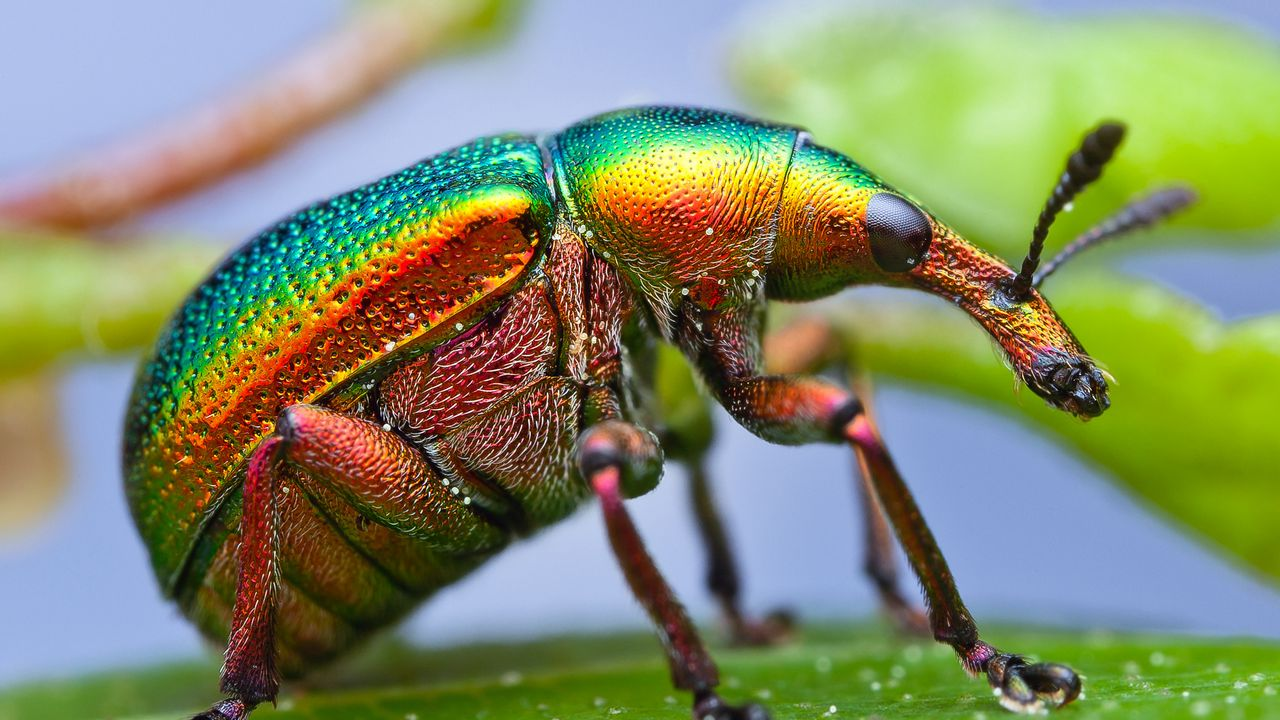dolgonosik: (97, 86, 1189, 720)
